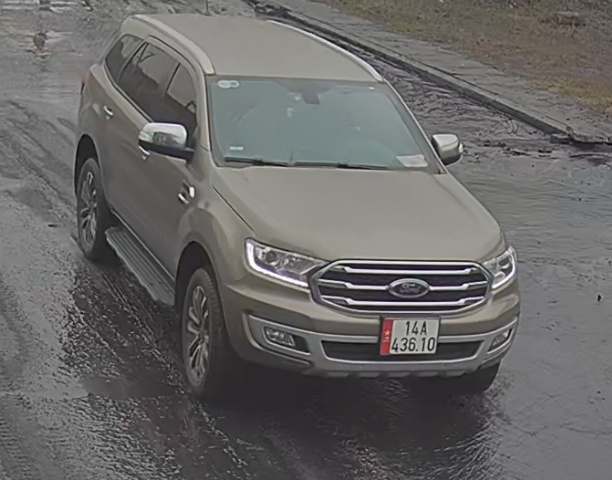vehicle plate: (370, 309, 449, 361)
